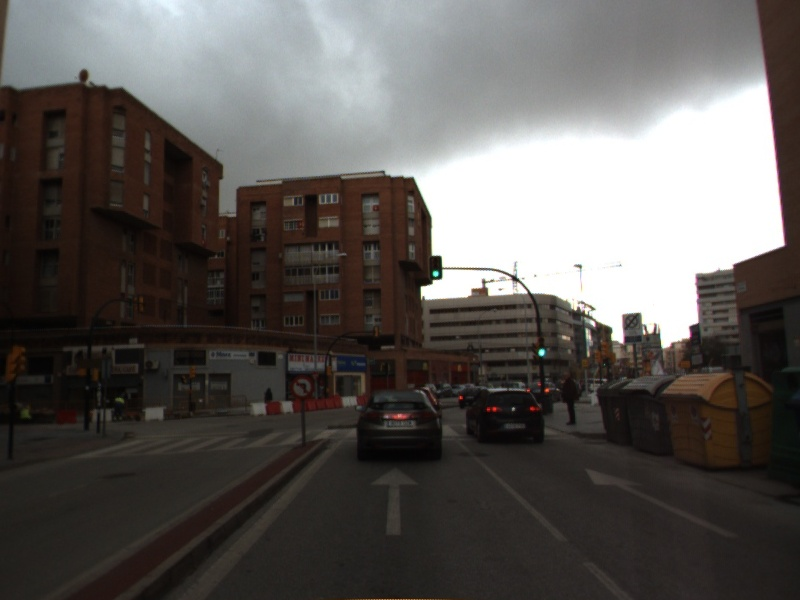STRAIGHT: (583, 466, 741, 540), (368, 465, 421, 537)
